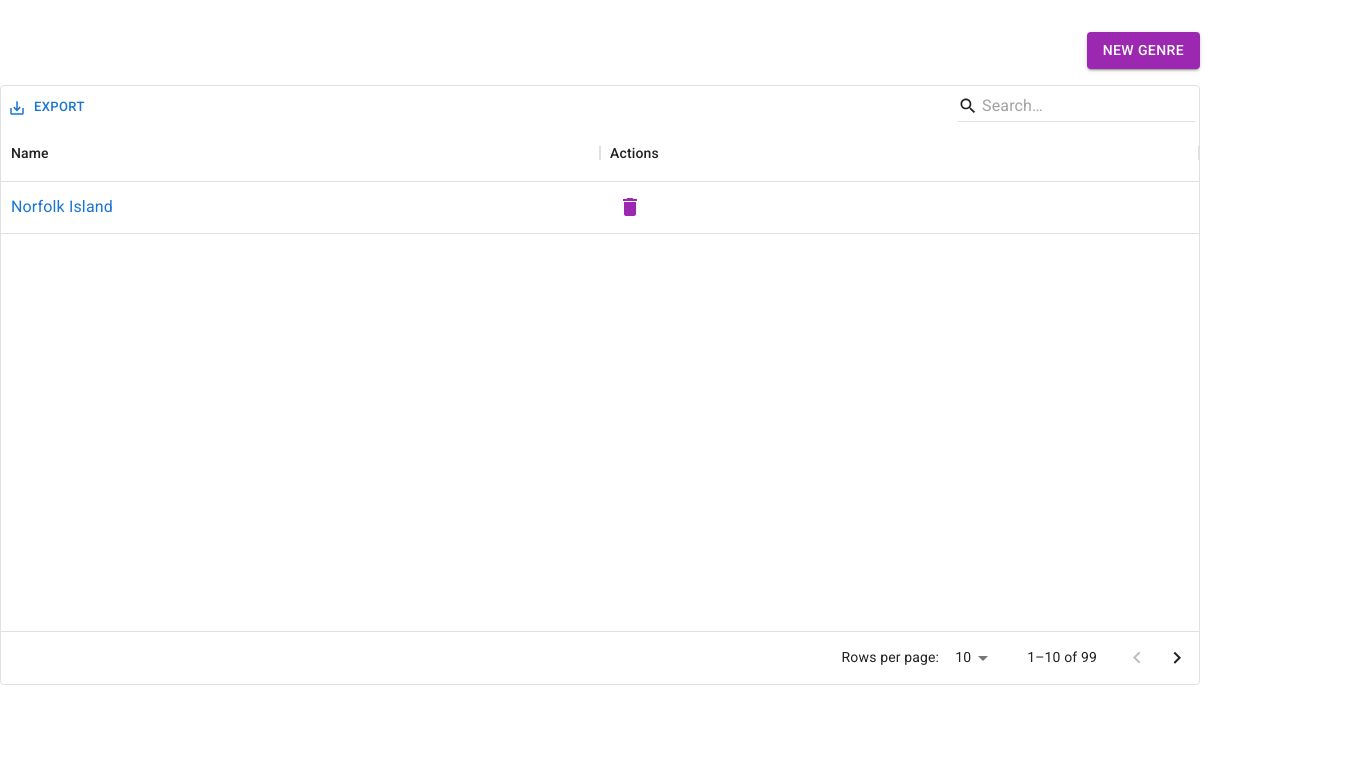
Test: GenreList › should handle On PageChange
Expected: the text "Norfolk Island" is shown, [11,195,113,219]
Click the button with test id "KeyboardArrowRightIcon".
click(1177, 658)  # box [1157,638,1197,678]
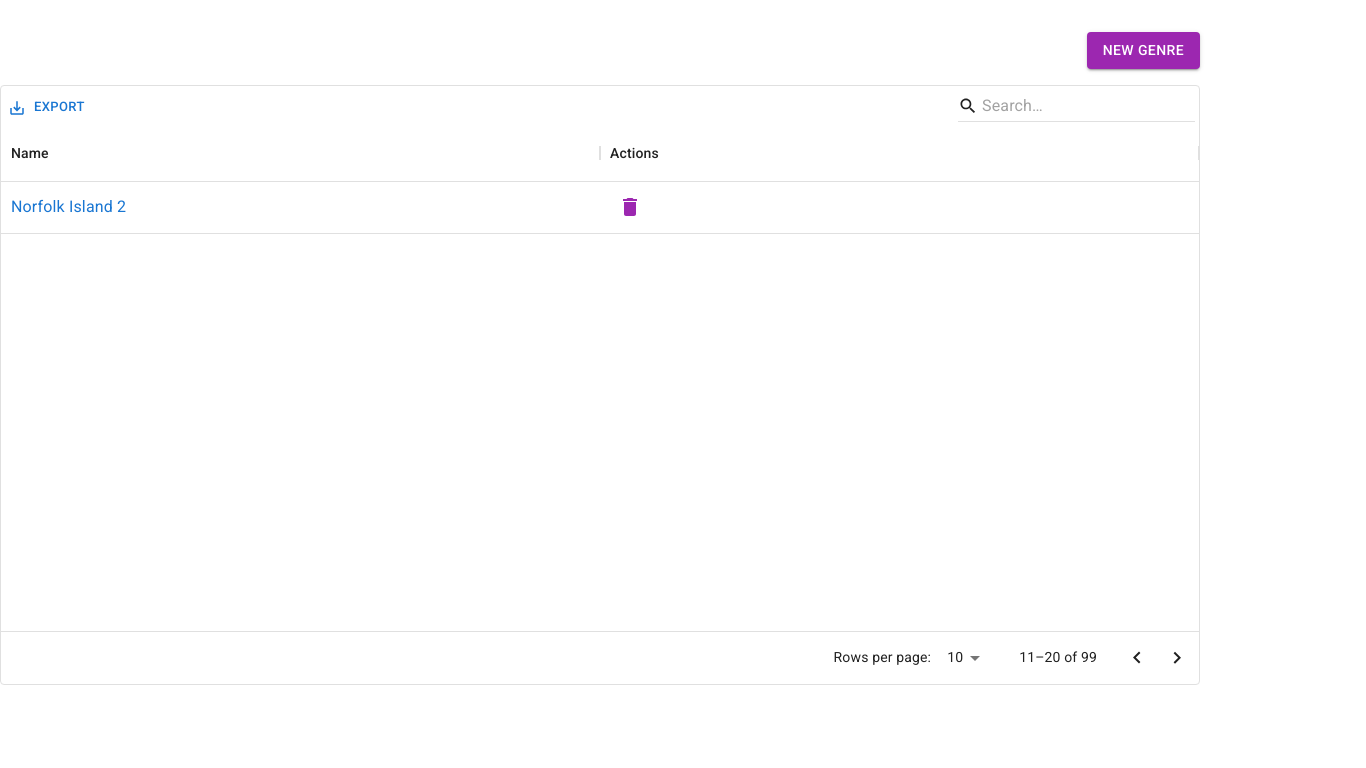
Expected: the text "Norfolk Island 2" is shown, [11,195,126,219]
